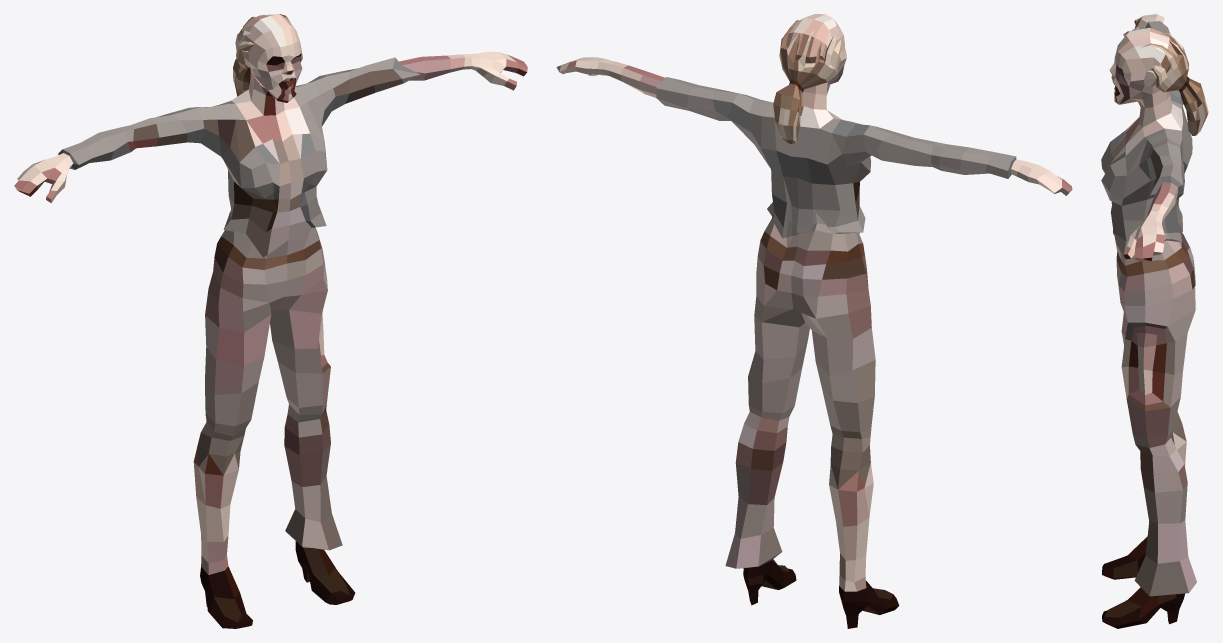
The model's file is lpFemale_zombie_C-model.fbx.
3 renders of one model, left to right at view 1: azimuth 30°, elevation 25°; view 2: azimuth 150°, elevation 25°; view 3: azimuth 270°, elevation 25°, orthographic. The views are drawn at different scales.
Visible parts, largest first — view 1: lpFemale_zombie_C, acc_hair_blond_fringes; view 2: lpFemale_zombie_C, acc_hair_blond_fringes; view 3: lpFemale_zombie_C, acc_hair_blond_fringes.
Boxes of the visible parts, left/top/right/bottom form: lpFemale_zombie_C: left=14, top=14, right=527, bottom=628; acc_hair_blond_fringes: left=233, top=14, right=290, bottom=96; lpFemale_zombie_C: left=556, top=14, right=1072, bottom=628; acc_hair_blond_fringes: left=773, top=20, right=841, bottom=143; lpFemale_zombie_C: left=1101, top=14, right=1196, bottom=628; acc_hair_blond_fringes: left=1141, top=32, right=1208, bottom=135.
Size of the model in its own units: 154 by 169 by 29.01.
1 material, 1 textured.
